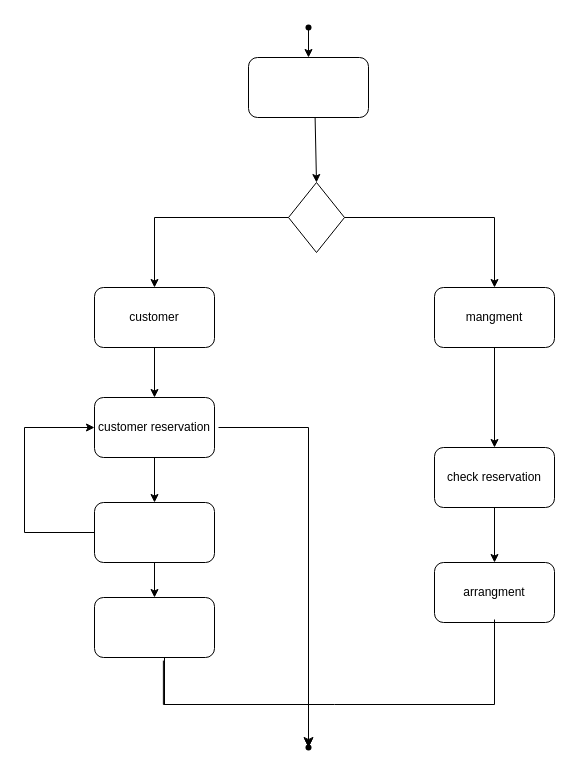
The diagram is 572 pixels wide and 775 high, and some of its shapes have lost their labels. The shapes that lost their labels are listed below. From the top down, each one's box as (x1, y1, x2, y2) in pixels, then its label:
(248, 56, 368, 118): login
(94, 502, 214, 562): customer id
(94, 596, 214, 658): payment
